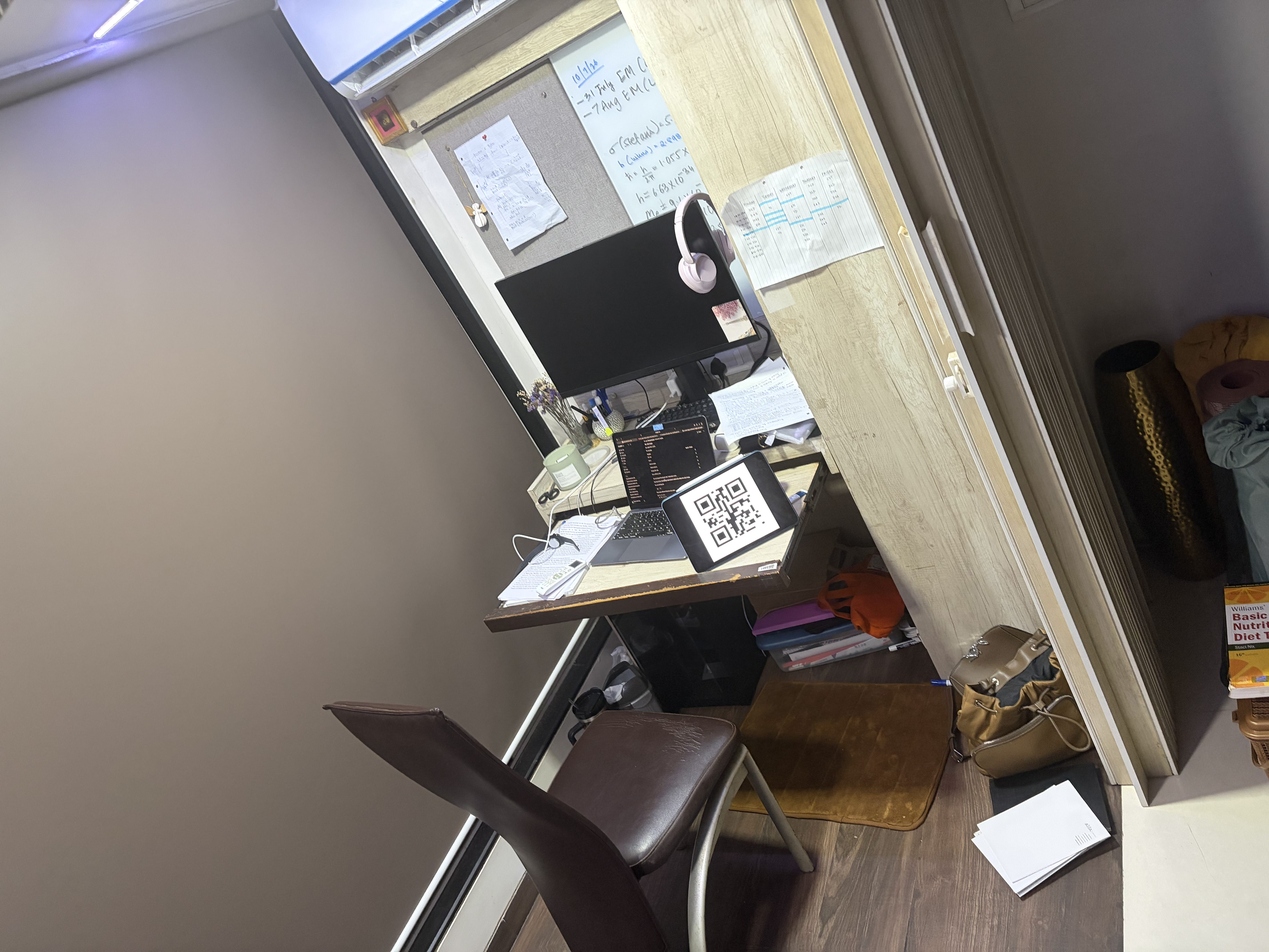QR: (668, 463, 768, 554)
